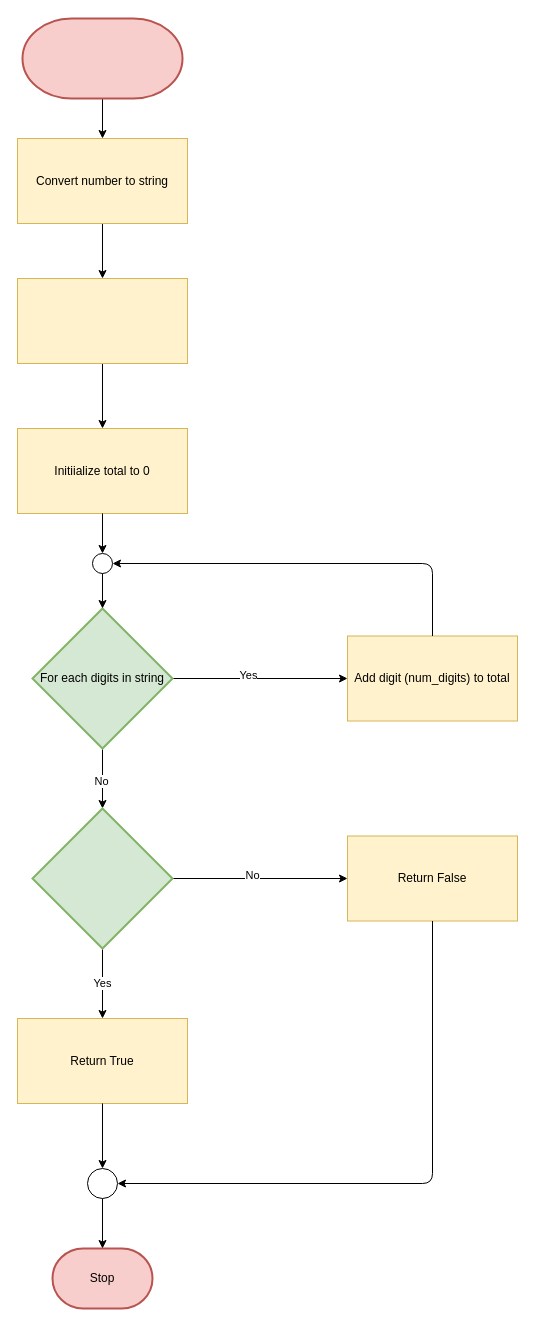
Image size: 535x1326. Some labels were removed from this diagram. Each missing label, with the centre of its shape:
Get number of digits: point 102,321
Is toal equal to number: point 102,878
is_armstrong(number): point 102,58
